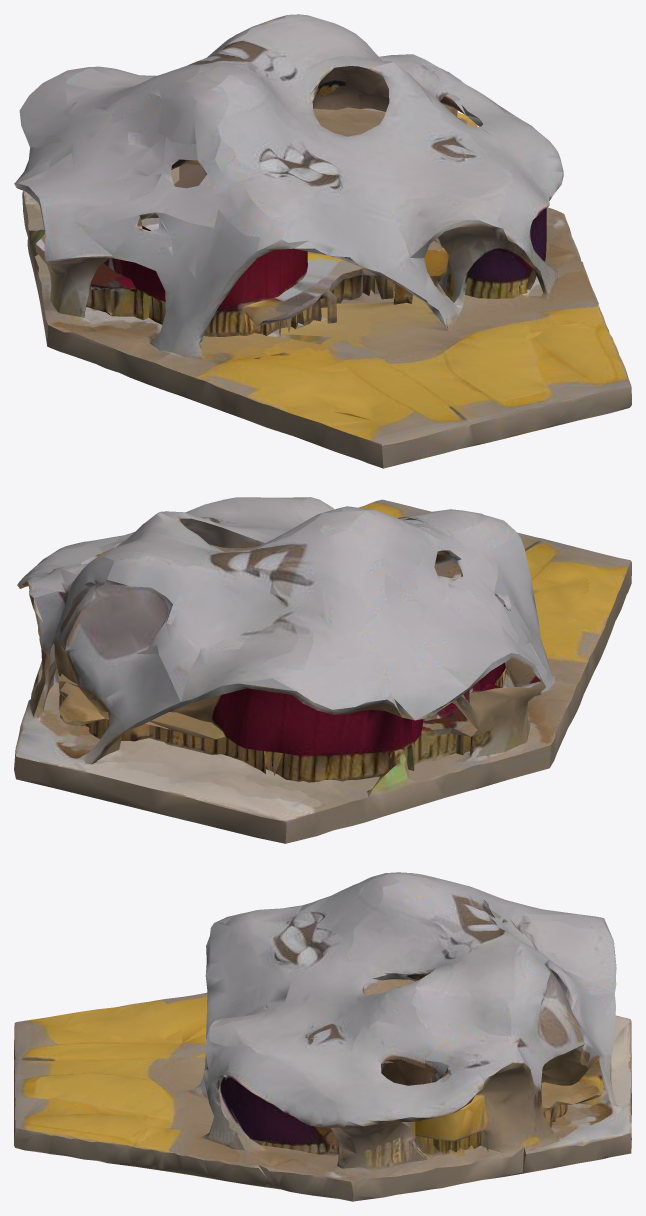
The model's file is weiwuying-arts-center.glb.
3 views of the same model, one above another, from view 1: azimuth 30°, elevation 25°; view 2: azimuth 150°, elevation 25°; view 3: azimuth 270°, elevation 25° (orthographic). The views are drawn at different scales.
Visible parts, largest first — view 1: logan-textured.obj; view 2: logan-textured.obj; view 3: logan-textured.obj.
Boxes of the visible parts, box(x1,y1,x2,y2) form: logan-textured.obj: box(14, 14, 631, 468); logan-textured.obj: box(14, 497, 631, 843); logan-textured.obj: box(14, 872, 631, 1201).
Bounding box in the file's own units: 0.822 × 0.3387 × 1.
Materials: 1 (1 with a texture image).
